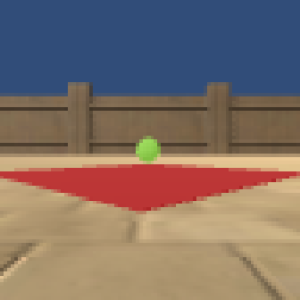deathZone: (1, 161, 300, 214)
goodGoal: (134, 135, 161, 162)
